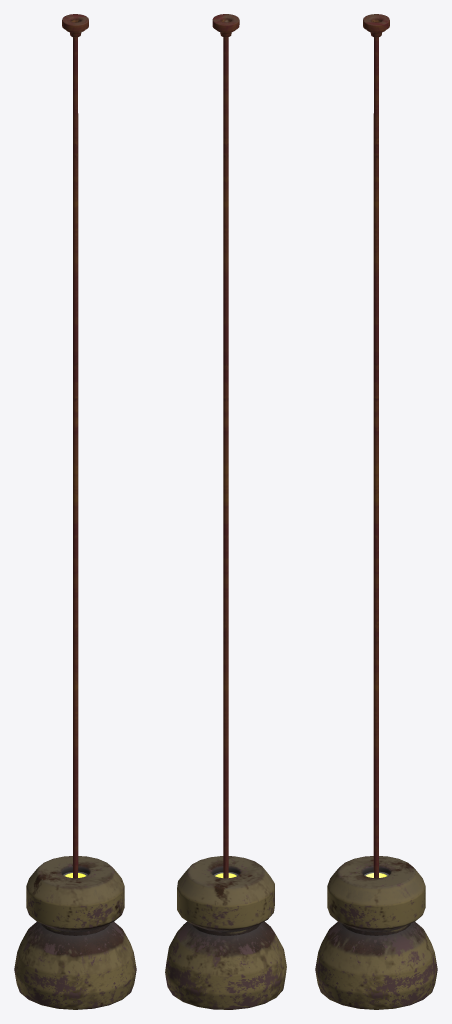
The model's file is hangingLight.glb.
3 views of the same model, side by side, from view 1: azimuth 90°, elevation 25°; view 2: azimuth 150°, elevation 25°; view 3: azimuth 270°, elevation 25° (orthographic).
Parts seen in each view (by area): view 1: Hanging_light; view 2: Hanging_light; view 3: Hanging_light.
Part boxes in pixels (x1=…): Hanging_light: x1=14, y1=14, x2=136, y2=1009; Hanging_light: x1=165, y1=14, x2=286, y2=1009; Hanging_light: x1=315, y1=14, x2=437, y2=1009.
Bounding box in the file's own units: 0.4438 × 3.87 × 0.4433.
Materials: 2 (2 with a texture image).
